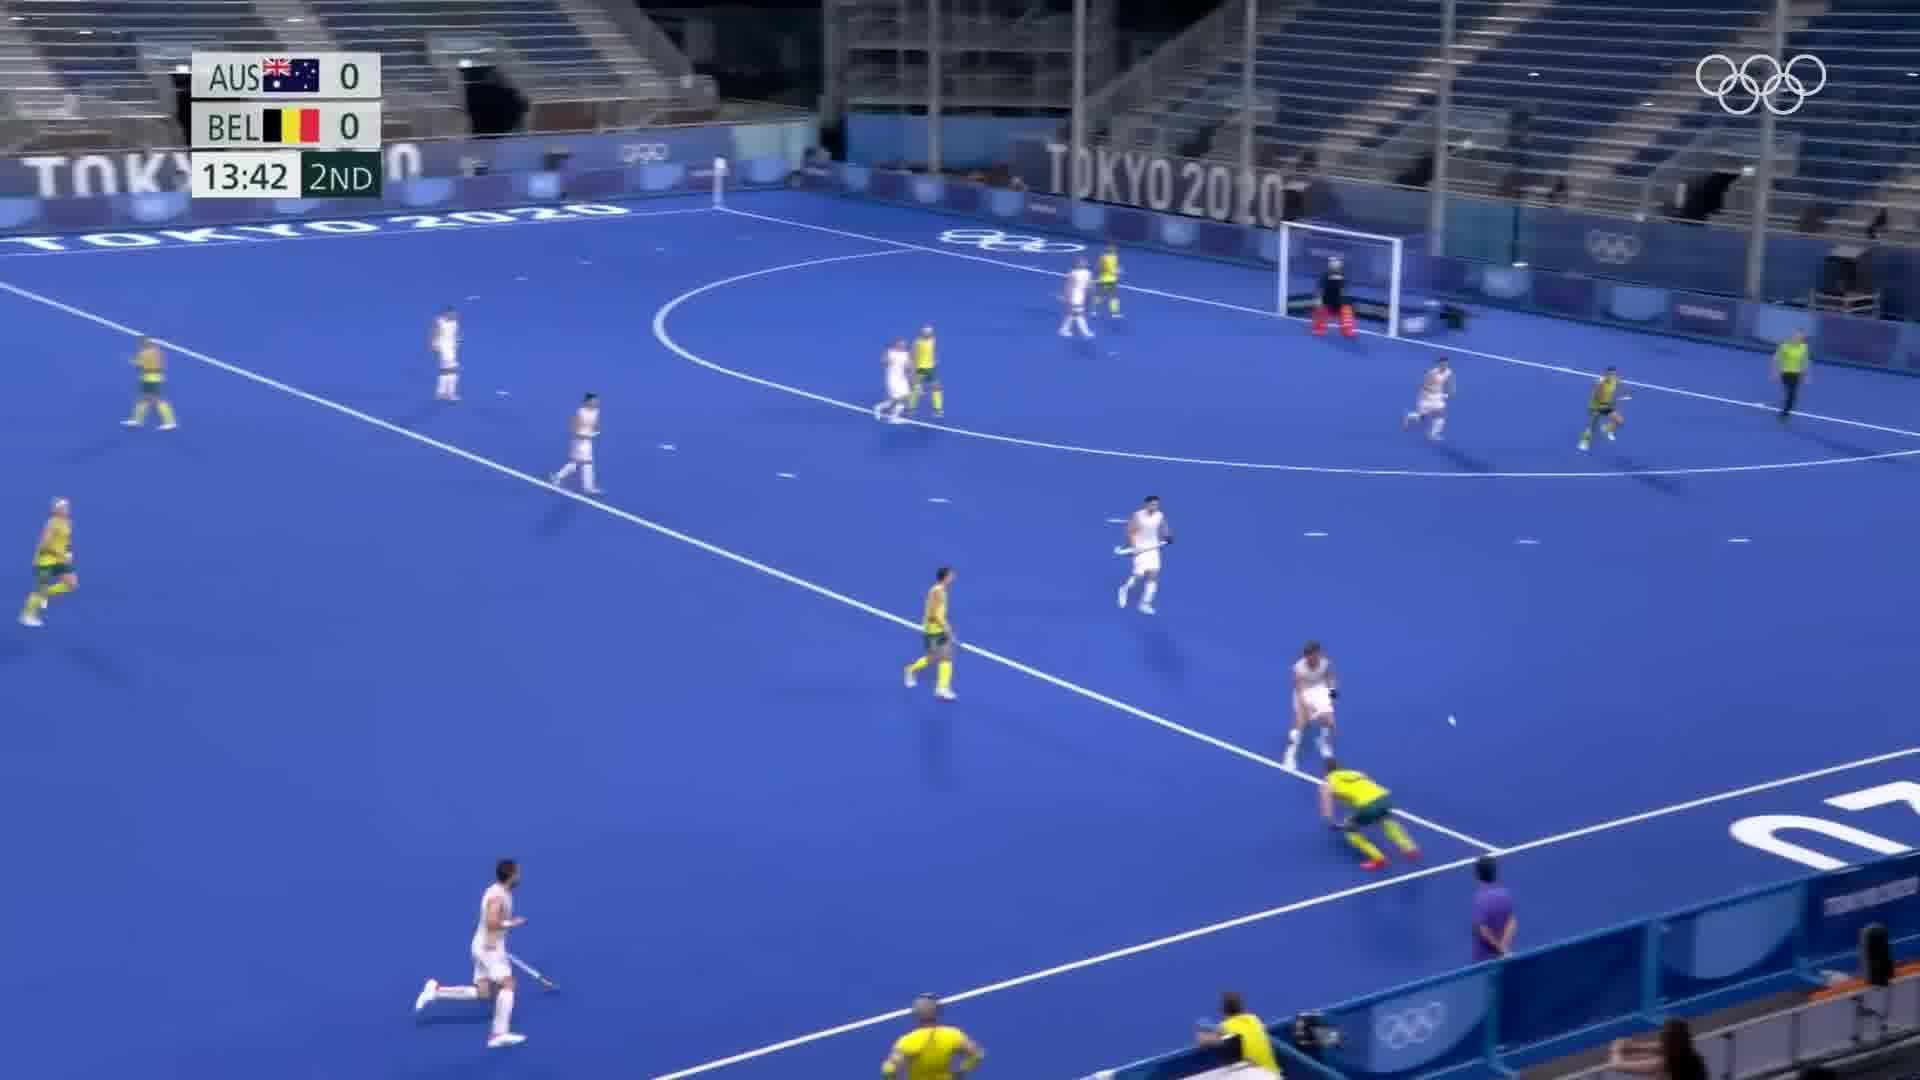ball: (1440, 709, 1462, 732)
